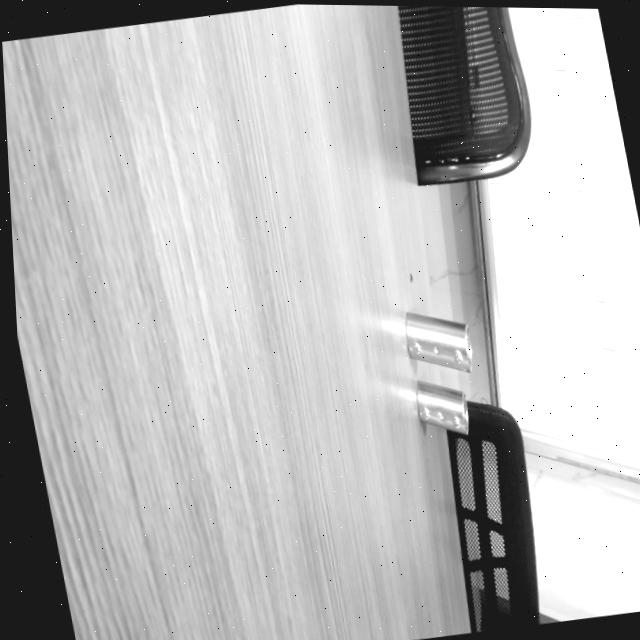Co_Lon: (396, 311, 479, 372)
Co_Nho: (407, 380, 477, 435)
